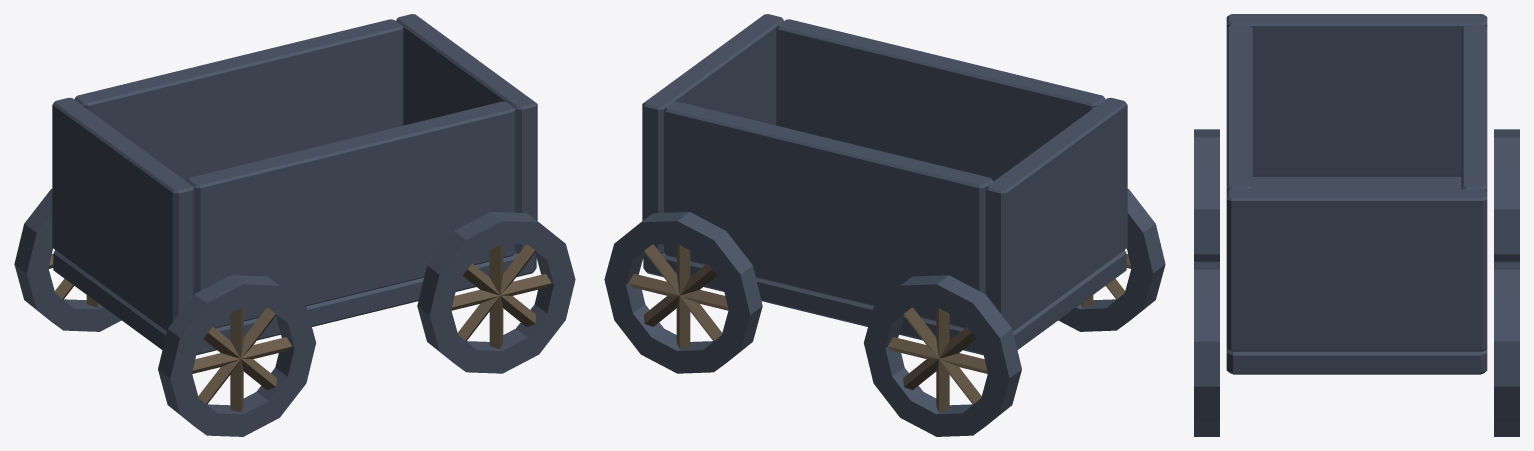
The model's file is cart-empty.glb.
3 views of the same model, side by side, from view 1: azimuth 30°, elevation 25°; view 2: azimuth 150°, elevation 25°; view 3: azimuth 270°, elevation 25° (orthographic). The views are drawn at different scales.
Visible parts, largest first — view 1: cart-empty__body; view 2: cart-empty__body; view 3: cart-empty__body.
Part boxes in pixels (x1,y1,x2,y2): cart-empty__body: [14, 14, 575, 436]; cart-empty__body: [604, 14, 1165, 436]; cart-empty__body: [1194, 14, 1519, 436].
Size of the model in its own units: 1.5 by 0.87 by 1.
